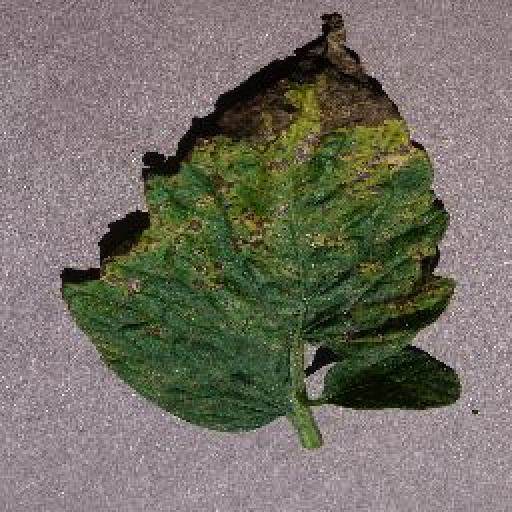disease_tomato: (60, 14, 464, 430)
